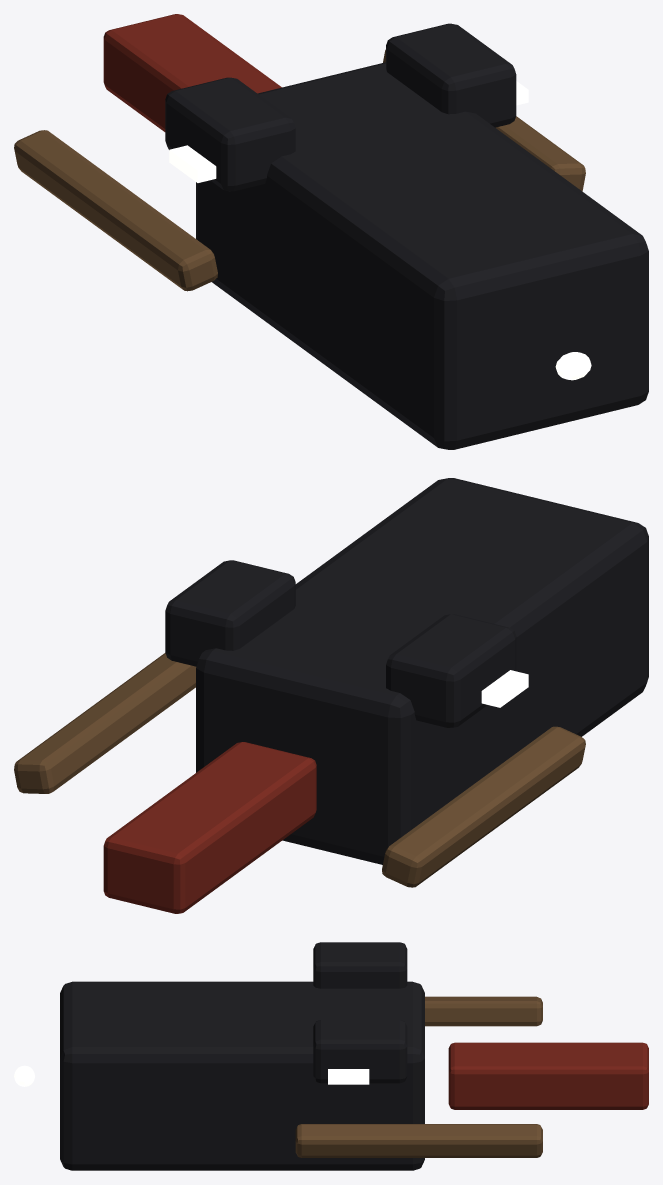
The picture shows the model from 3 angles, top to bottom: view 1: azimuth 30°, elevation 25°; view 2: azimuth 150°, elevation 25°; view 3: azimuth 270°, elevation 25°; orthographic projection. The views are drawn at different scales.
Visible parts, largest first — view 1: RIMWARD_HULL, RIMWARD_EMISSIVE, RIMWARD_ENGINE_GLOW; view 2: RIMWARD_HULL, RIMWARD_EMISSIVE; view 3: RIMWARD_HULL, RIMWARD_EMISSIVE, RIMWARD_ENGINE_GLOW.
Part boxes in pixels (x1,y1,x2,y2): RIMWARD_HULL: (14,14,648,449); RIMWARD_EMISSIVE: (169,81,528,182); RIMWARD_ENGINE_GLOW: (555,352,591,380); RIMWARD_HULL: (14,478,648,913); RIMWARD_EMISSIVE: (481,670,528,707); RIMWARD_HULL: (60,942,648,1170); RIMWARD_EMISSIVE: (328,1069,369,1084); RIMWARD_ENGINE_GLOW: (14,1065,34,1086).
Bounding box in the file's own units: 9.79 × 4.68 × 18.33.
